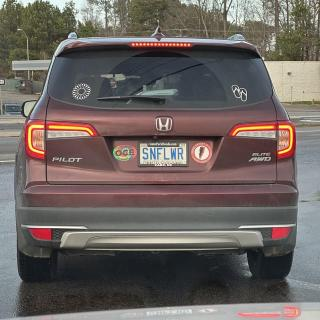license: (138, 142, 190, 168)
